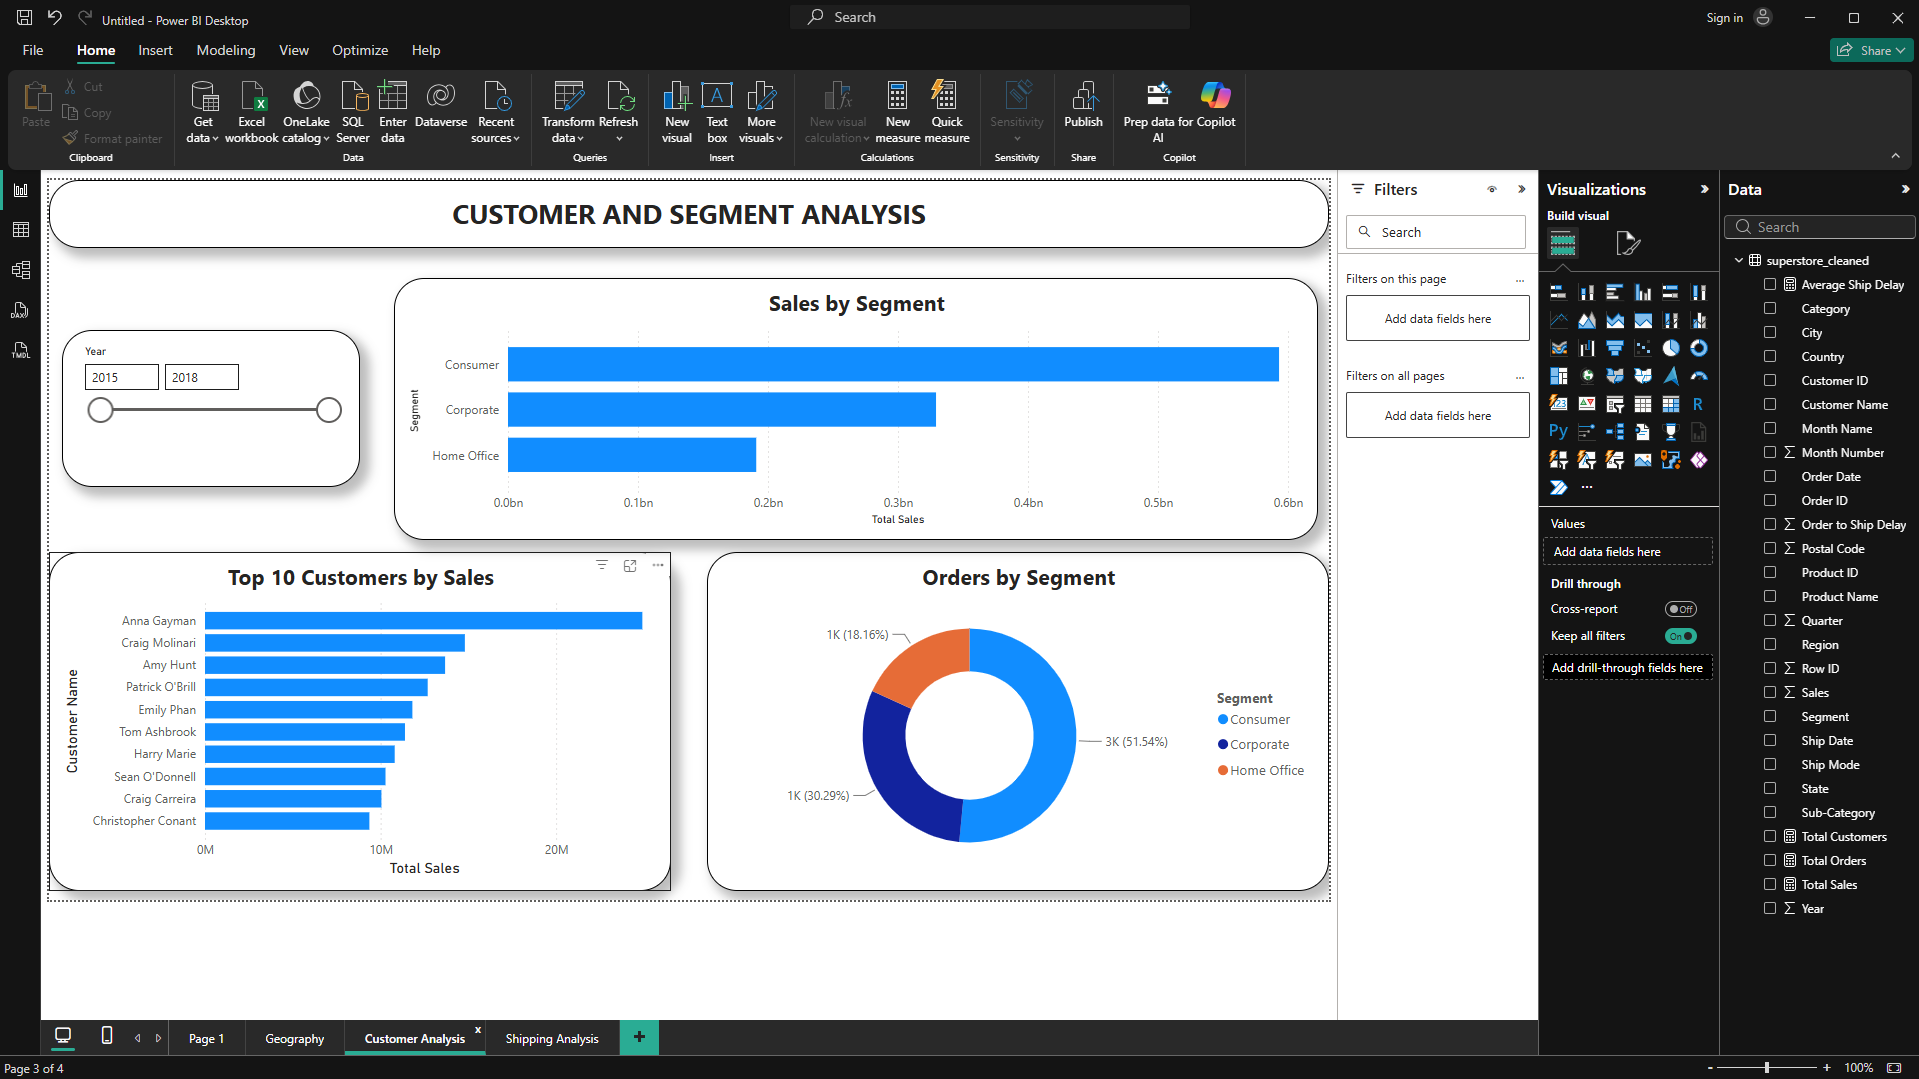

The page's visual inventory and layout, read from the dashboard file:
{"tool":"powerbi","page":{"name":"Customer Analysis","canvas":[1280,720],"ordinal":2},"visuals":[{"type":"textbox","box":[0,0,1280,68],"z":0},{"type":"barChart","title":"Top 10 Customers by Sales","fields":{"Category":["superstore_cleaned.Customer Name"],"Y":["superstore_cleaned.Total Sales"]},"box":[0,372,622,339],"z":2},{"type":"donutChart","title":"Orders by Segment","fields":{"Category":["superstore_cleaned.Segment"],"Y":["superstore_cleaned.Total Orders"]},"box":[658,372,622,339],"z":3},{"type":"slicer","fields":{"Values":["superstore_cleaned.Year"]},"box":[13,150,298,157],"z":4},{"type":"clusteredBarChart","title":"Sales by Segment","fields":{"Category":["superstore_cleaned.Segment"],"Y":["superstore_cleaned.Total Sales"]},"box":[345,98,924,262],"z":5}]}

Visuals, with their boxes on the page's 1280x720 design canvas (x1, y1, x2, y2). These are canvas units, not pixel positions in the 1919x1079 screenshot, which may show the page scaled, cropped or inside an application window:
textbox: 0:0:1280:68
"Top 10 Customers by Sales" barChart: 0:372:622:711
"Orders by Segment" donutChart: 658:372:1280:711
slicer - superstore_cleaned.Year: 13:150:311:307
"Sales by Segment" clusteredBarChart: 345:98:1269:360
